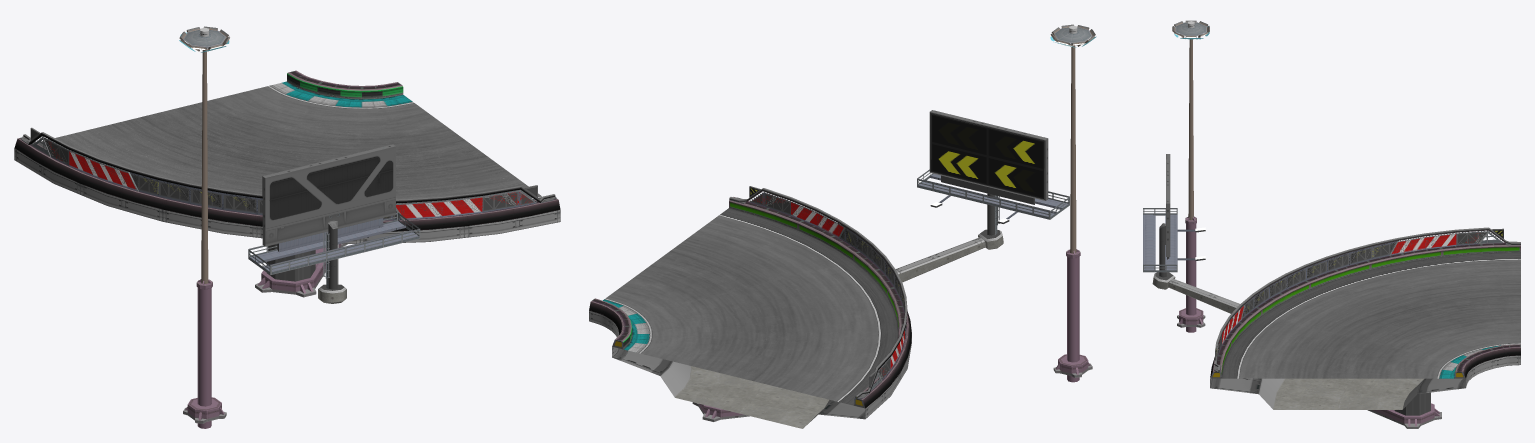
3 views of the same model, side by side, from view 1: azimuth 30°, elevation 25°; view 2: azimuth 150°, elevation 25°; view 3: azimuth 270°, elevation 25° (orthographic). The views are drawn at different scales.
Visible parts, largest first — view 1: drift_road, prop_billboard_left, standard_arrow_lefts, tunnel_wall_drift8, standard_bridge, pro_floodlight_overhead_2, support_pylon_1, support_ground, support_ground_1, support_pylon, tower_attachment; view 2: drift_road, prop_billboard_left, standard_bridge, tunnel_wall_drift8, standard_arrow_lefts, pro_floodlight_overhead_2, tower_attachment, support_pylon_1, support_ground_1, support_ground; view 3: drift_road, standard_bridge, standard_arrow_lefts, tunnel_wall_drift8, prop_billboard_left, pro_floodlight_overhead_2, tower_attachment, support_pylon_1, support_ground, support_pylon, support_ground_1.
Boxes of the visible parts, <box> form: drift_road: <box>38,81,542,203</box>; prop_billboard_left: <box>248,144,420,289</box>; standard_arrow_lefts: <box>21,127,556,220</box>; tunnel_wall_drift8: <box>14,70,560,231</box>; standard_bridge: <box>14,92,560,243</box>; pro_floodlight_overhead_2: <box>179,26,229,283</box>; support_pylon_1: <box>197,287,211,428</box>; support_ground: <box>255,243,347,297</box>; support_ground_1: <box>183,397,226,423</box>; support_pylon: <box>266,244,315,281</box>; tower_attachment: <box>318,244,346,303</box>; drift_road: <box>603,208,898,405</box>; prop_billboard_left: <box>917,110,1069,235</box>; standard_bridge: <box>589,310,911,428</box>; tunnel_wall_drift8: <box>589,197,911,408</box>; standard_arrow_lefts: <box>729,186,907,398</box>; pro_floodlight_overhead_2: <box>1050,24,1095,253</box>; tower_attachment: <box>895,229,1003,282</box>; support_pylon_1: <box>1067,257,1079,382</box>; support_ground_1: <box>1053,354,1092,377</box>; support_ground: <box>692,402,749,421</box>; drift_road: <box>1221,252,1520,378</box>; standard_bridge: <box>1210,355,1520,409</box>; standard_arrow_lefts: <box>1214,227,1520,371</box>; tunnel_wall_drift8: <box>1210,242,1520,378</box>; prop_billboard_left: <box>1143,154,1205,277</box>; pro_floodlight_overhead_2: <box>1172,20,1209,220</box>; tower_attachment: <box>1152,272,1239,313</box>; support_pylon_1: <box>1186,223,1196,332</box>; support_ground: <box>1367,403,1441,428</box>; support_pylon: <box>1394,392,1430,415</box>; support_ground_1: <box>1177,308,1205,327</box>.
Bounding box in the file's own units: 6251 × 5949 × 6612.
